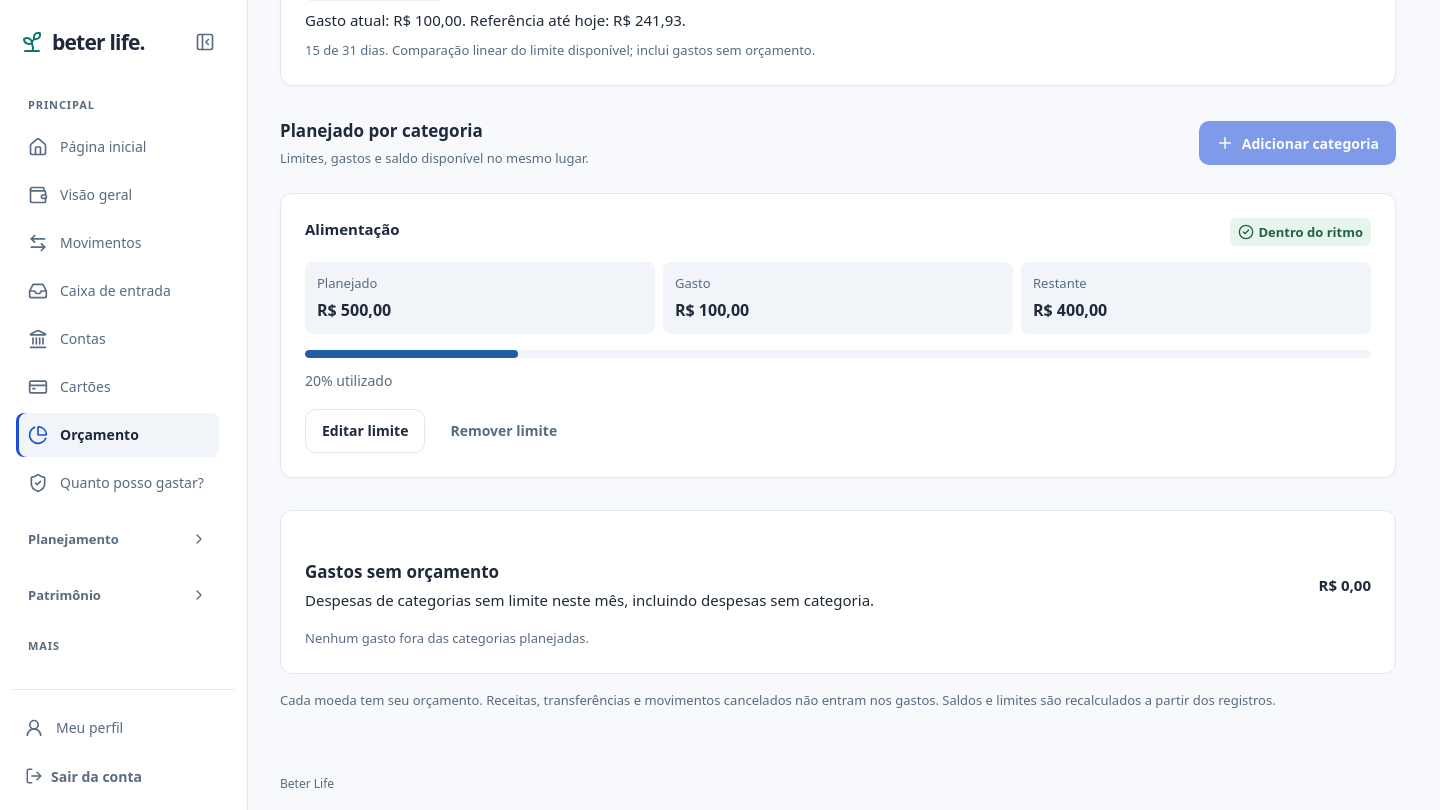
budget UI with real transport, query cache and Auth V2 guard › deactivates an allocation only after explicit confirmation
(page scrolled)
Click the button "Remover limite" at (504, 431), box top-left (433, 409), bottom-right (574, 453)
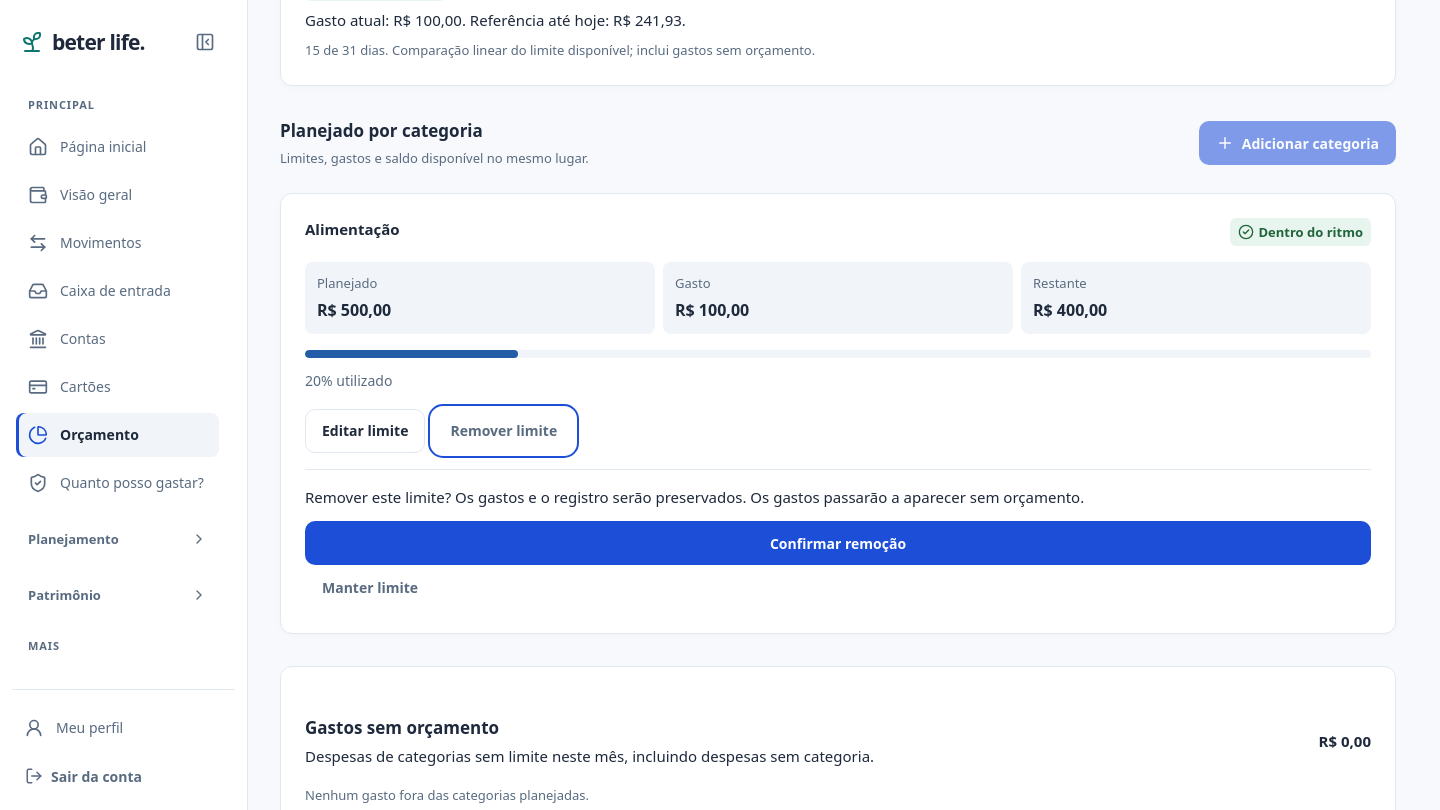
Click the button "Confirmar remoção" at (838, 543), box top-left (305, 521), bottom-right (1371, 565)
(page scrolled)
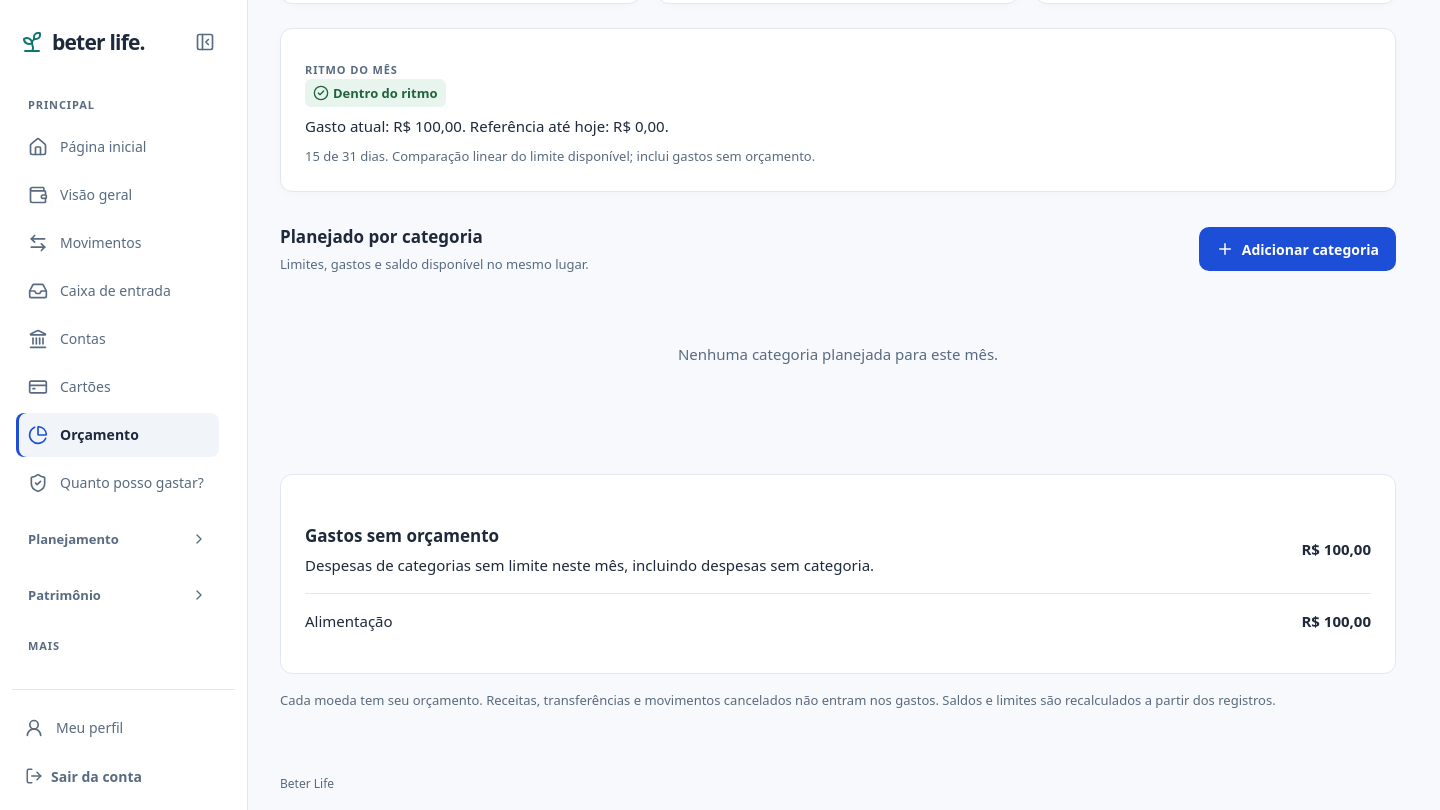
Expected: the progress indicator is gone
Expected: the text "Alimentação" is shown, top-left (305, 610), bottom-right (393, 633)
